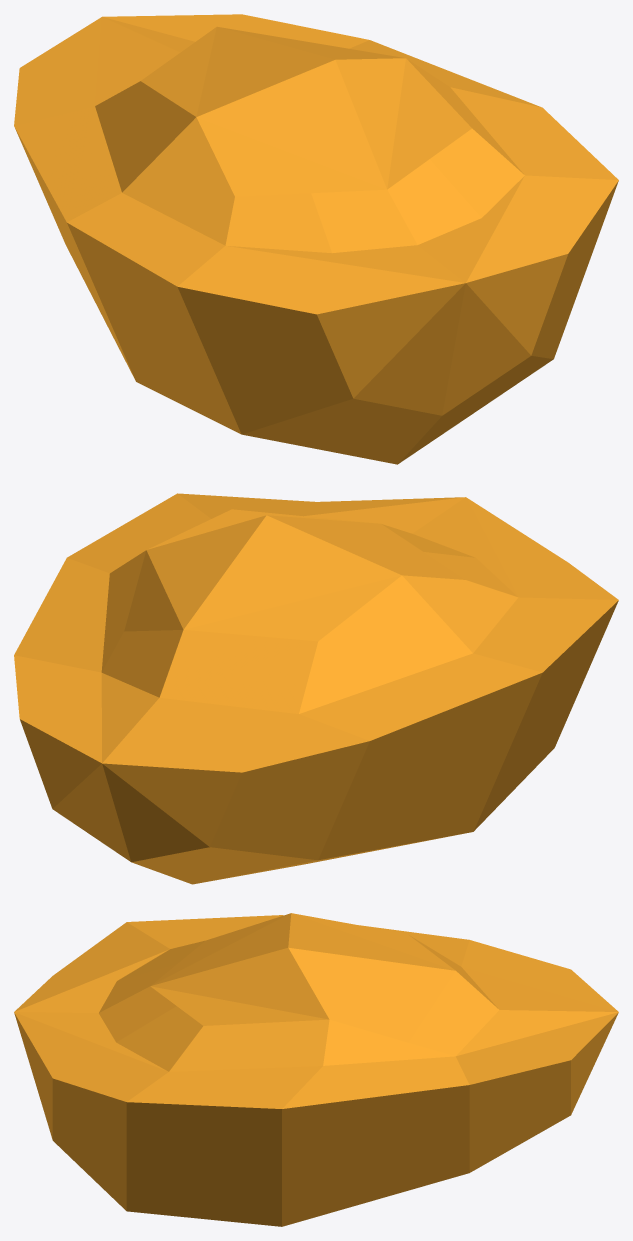
File: SM_Stuffed_Egg.fbx
The picture shows the model from 3 angles, top to bottom: view 1: azimuth 30°, elevation 25°; view 2: azimuth 150°, elevation 25°; view 3: azimuth 270°, elevation 25°; orthographic projection. The views are drawn at different scales.
Parts seen in each view (by area): view 1: stuffed-egg; view 2: stuffed-egg; view 3: stuffed-egg.
Boxes of the visible parts, x1,y1,x2,y2 form: stuffed-egg: (14, 14, 618, 464); stuffed-egg: (14, 493, 618, 884); stuffed-egg: (14, 913, 618, 1226).
Size of the model in its own units: 0.0736 by 0.0507 by 0.0975.
